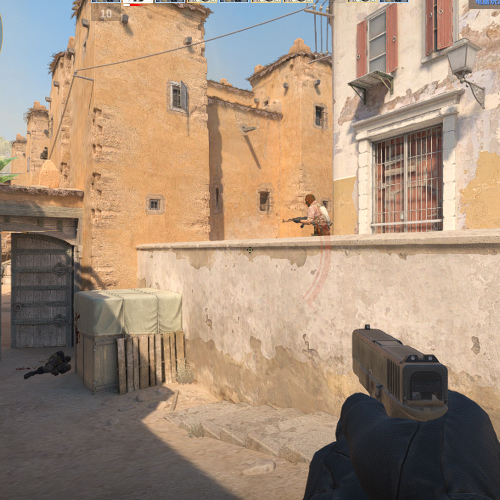t_body: (297, 193, 333, 237)
t_head: (303, 193, 315, 207)
